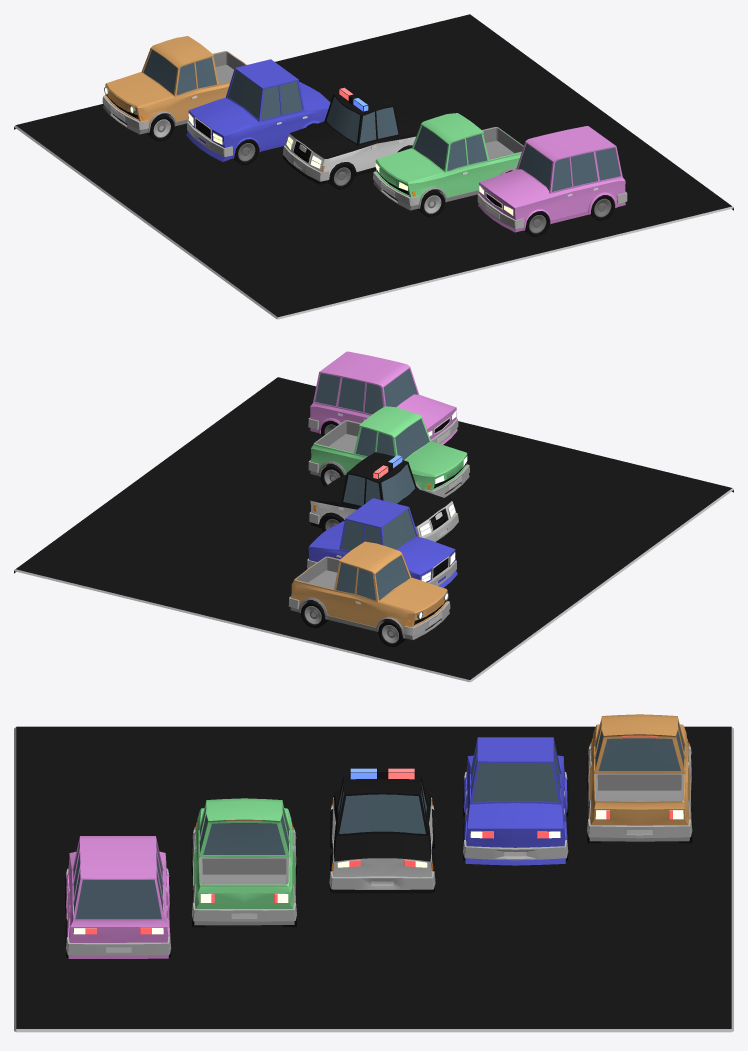
Rendered from lowpoly_cars_pickup_sedan_police_stationwagon.glb.
The picture shows the model from 3 angles, top to bottom: view 1: azimuth 30°, elevation 25°; view 2: azimuth 150°, elevation 25°; view 3: azimuth 270°, elevation 25°; orthographic projection. The views are drawn at different scales.
Parts seen in each view (by area): view 1: Plane, CarStationWagon.Low.001, CarStationPickupLow.001, CarSedan.Low.001, CarSedanPoliceLow.001, CarPickupLow.001; view 2: Plane, CarPickupLow.001, CarStationPickupLow.001, CarStationWagon.Low.001, CarSedanPoliceLow.001, CarSedan.Low.001; view 3: Plane, CarPickupLow.001, CarSedan.Low.001, CarStationPickupLow.001, CarSedanPoliceLow.001, CarStationWagon.Low.001.
Boxes of the visible parts, x1,y1,x2,y2 form: Plane: [14, 14, 733, 319]; CarStationWagon.Low.001: [477, 126, 627, 236]; CarStationPickupLow.001: [373, 113, 523, 217]; CarSedan.Low.001: [186, 59, 330, 164]; CarSedanPoliceLow.001: [283, 84, 420, 189]; CarPickupLow.001: [102, 36, 246, 141]; Plane: [14, 377, 733, 682]; CarPickupLow.001: [288, 541, 450, 646]; CarStationPickupLow.001: [308, 406, 469, 497]; CarStationWagon.Low.001: [308, 351, 458, 444]; CarSedanPoliceLow.001: [309, 452, 458, 542]; CarSedan.Low.001: [307, 498, 457, 587]; Plane: [14, 726, 733, 1032]; CarPickupLow.001: [587, 714, 692, 843]; CarSedan.Low.001: [463, 737, 568, 865]; CarStationPickupLow.001: [191, 798, 296, 927]; CarSedanPoliceLow.001: [329, 767, 435, 893]; CarStationWagon.Low.001: [65, 836, 171, 958].
Bounding box in the file's own units: 14.51 × 2.31 × 14.51.
Materials: 23 (1 with a texture image).
